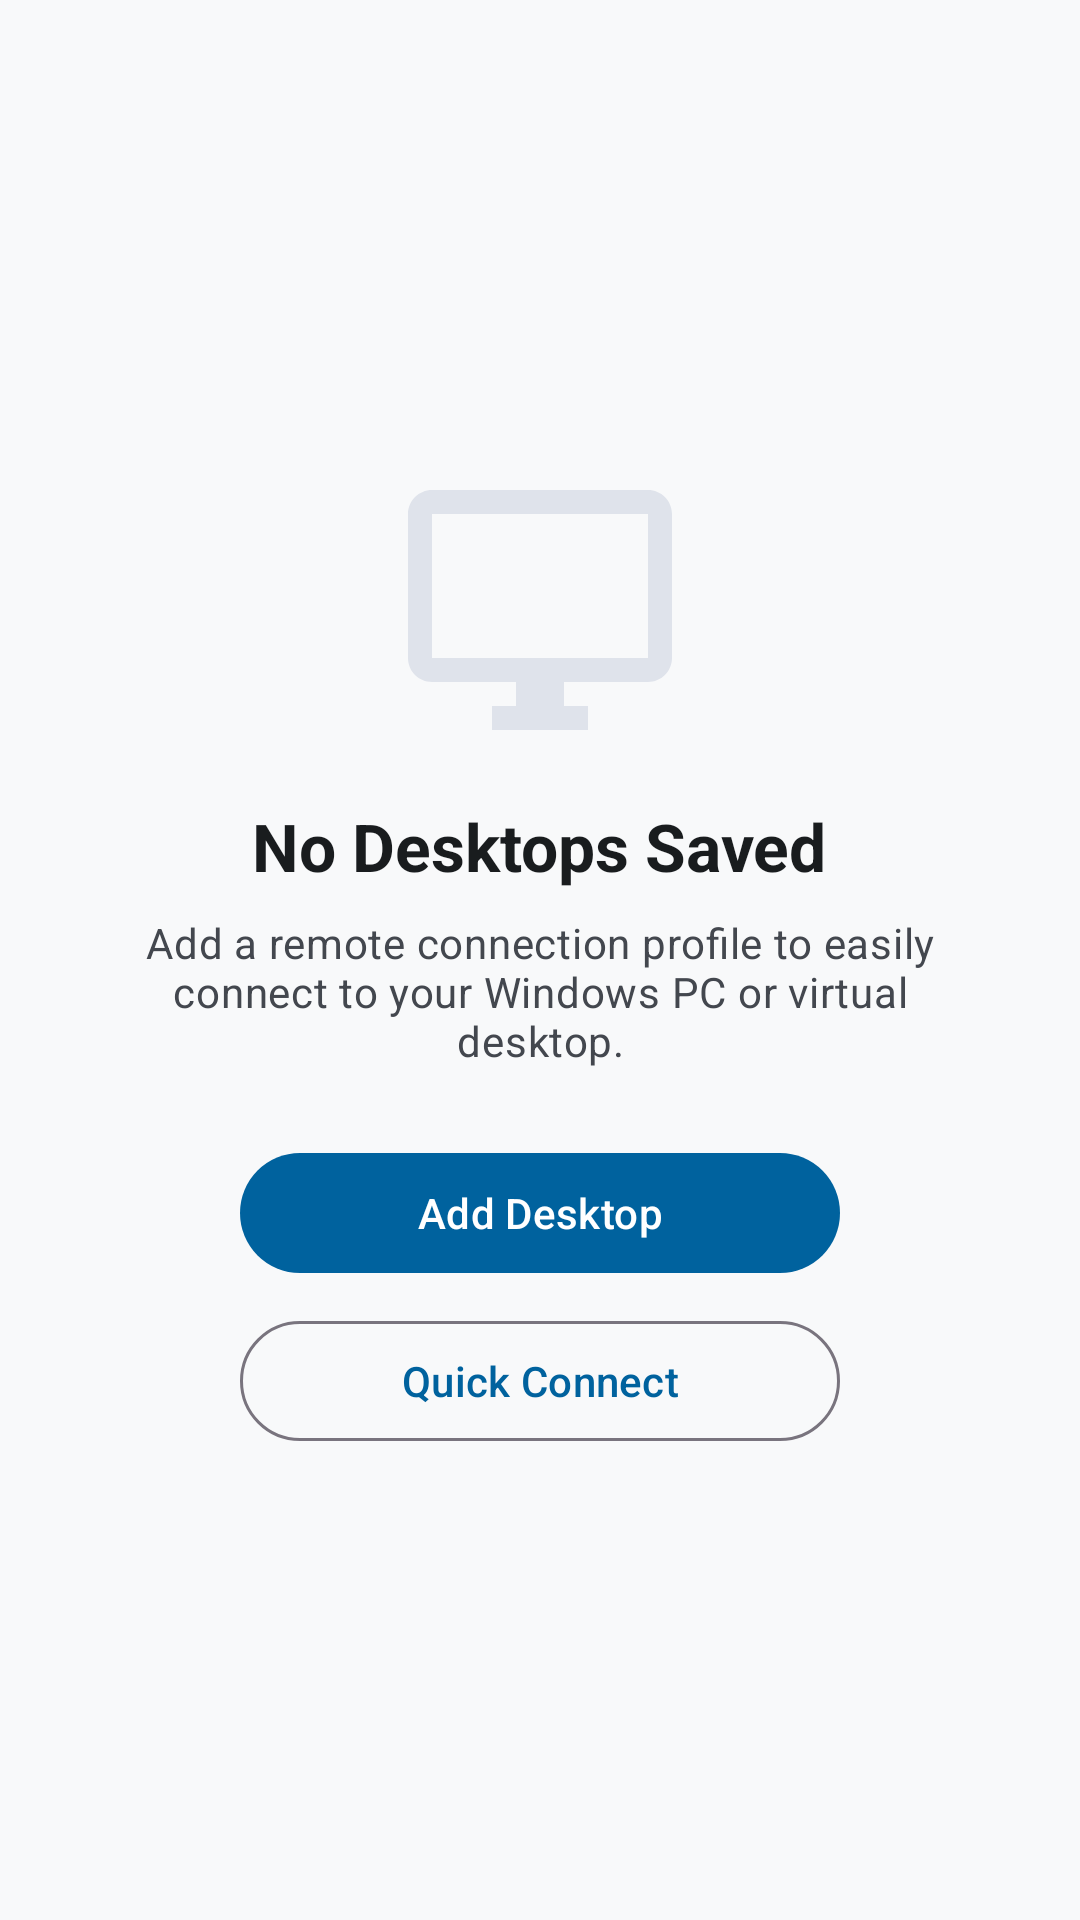

Named icons in this screenshot (1080px×1920px) and their bounding boxes, (x1, y1, x2, y2):
desktop windows: (408, 490, 672, 730)
